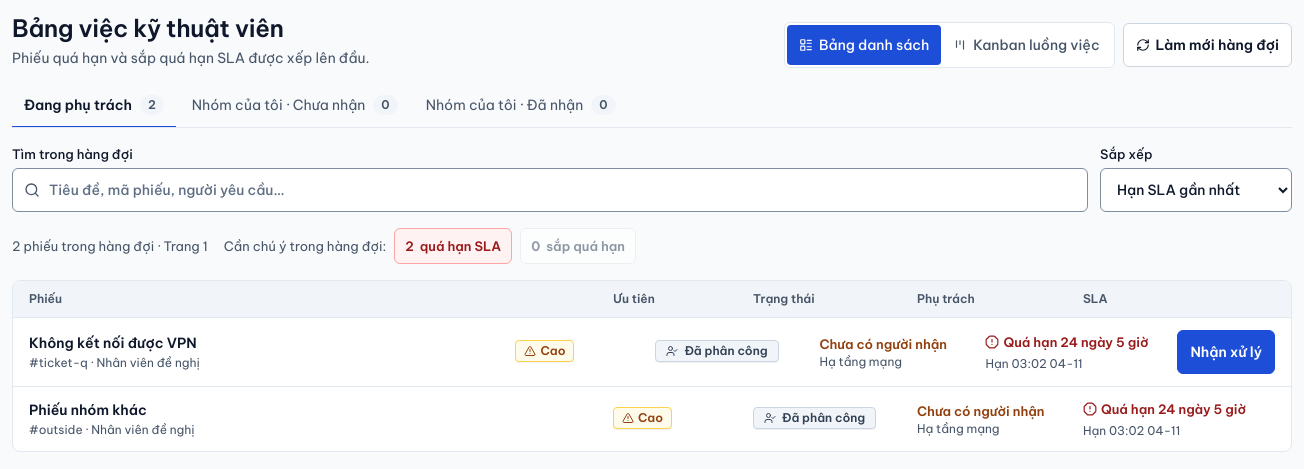
Scenario: server-side ticket queues › only offers claim for active members and refreshes a 409 without overwriting the winner
The width and height of the screenshot is (1304, 469).
Click the button "Nhận xử lý": coordinates (1226, 352) x1=1177 y1=330 x2=1275 y2=374
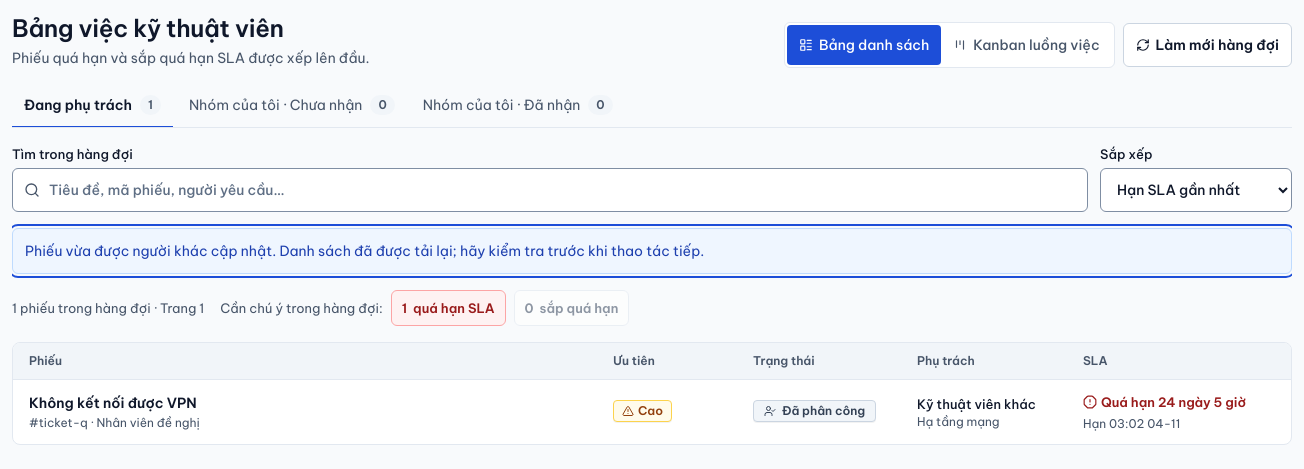
Result: the text "Phiếu vừa được người khác cập nhật" is shown at x1=25 y1=242 x2=704 y2=260
Result: the text "Kỹ thuật viên khác" is shown at x1=917 y1=396 x2=1036 y2=412
Result: the button "Nhận xử lý" is gone
